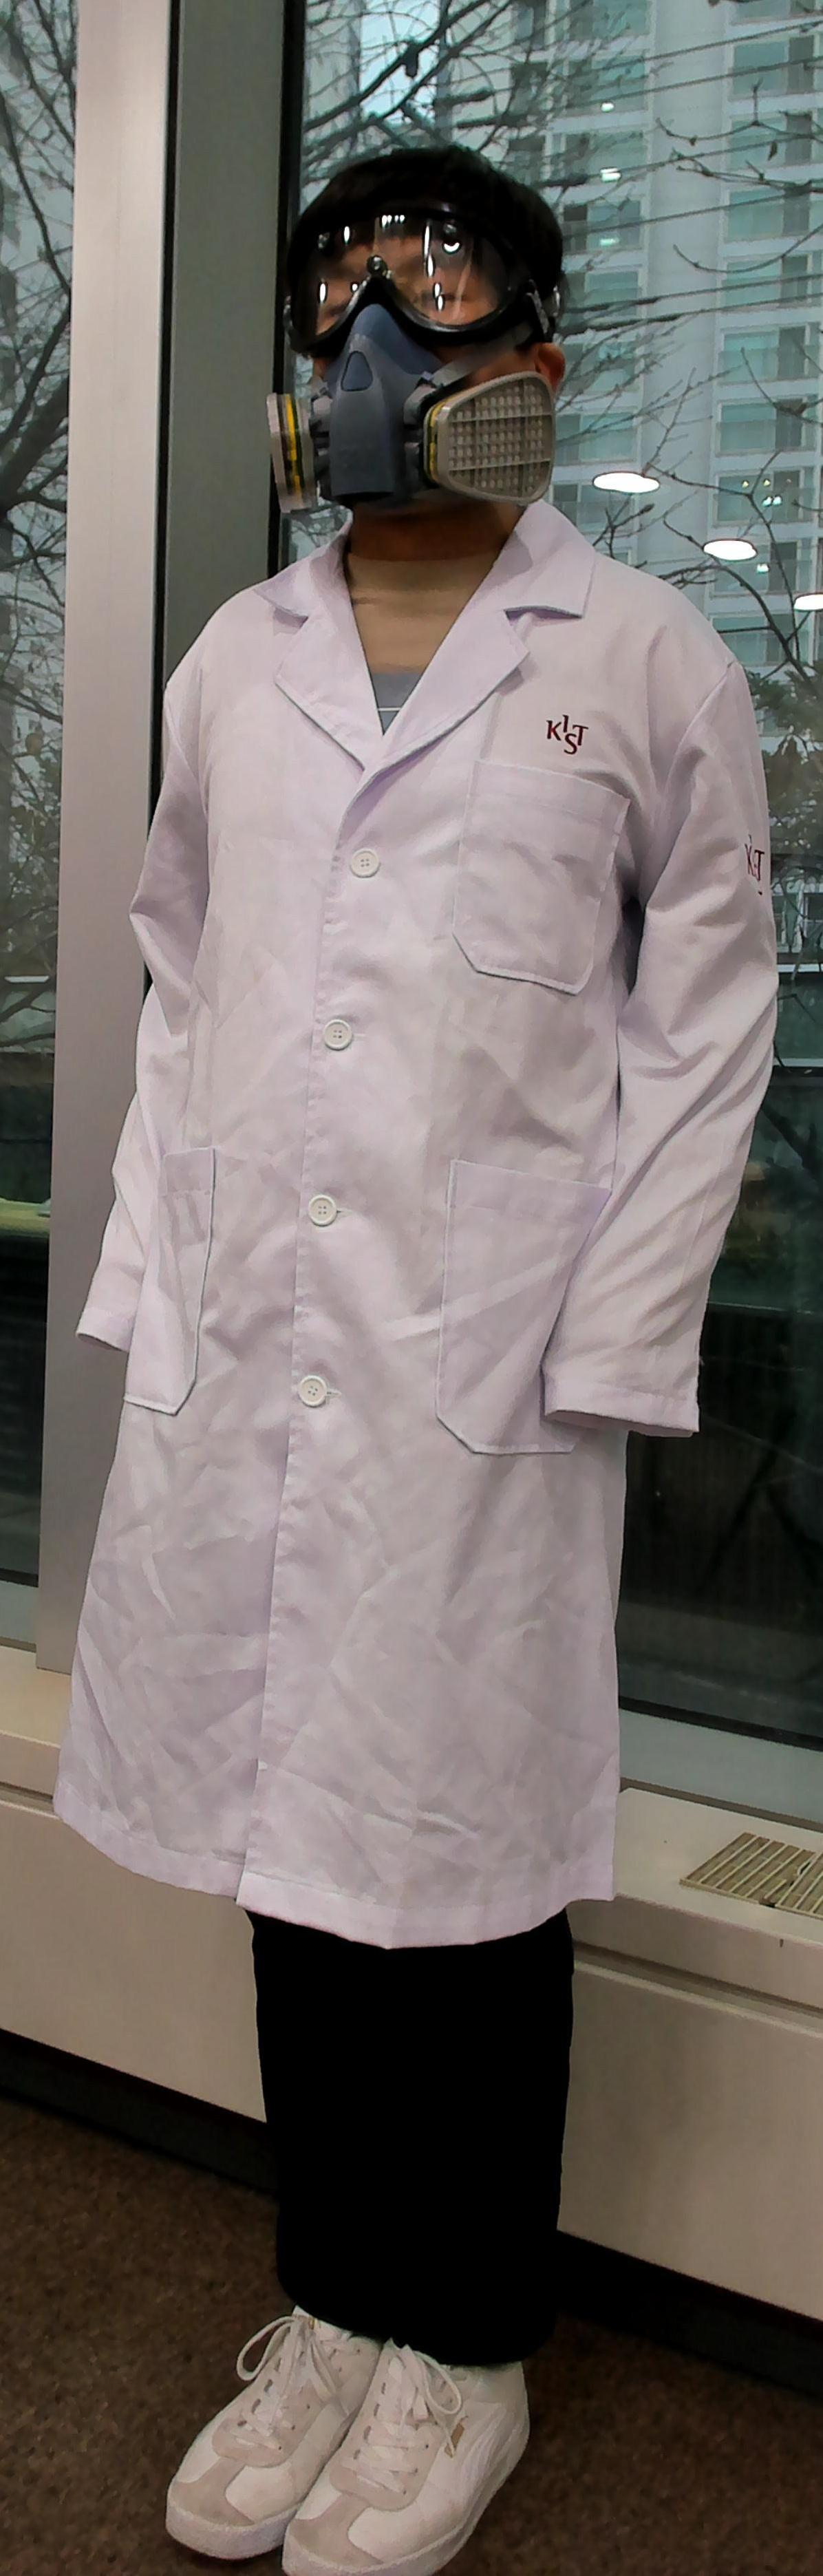lab_coat: (71, 559, 729, 1945)
